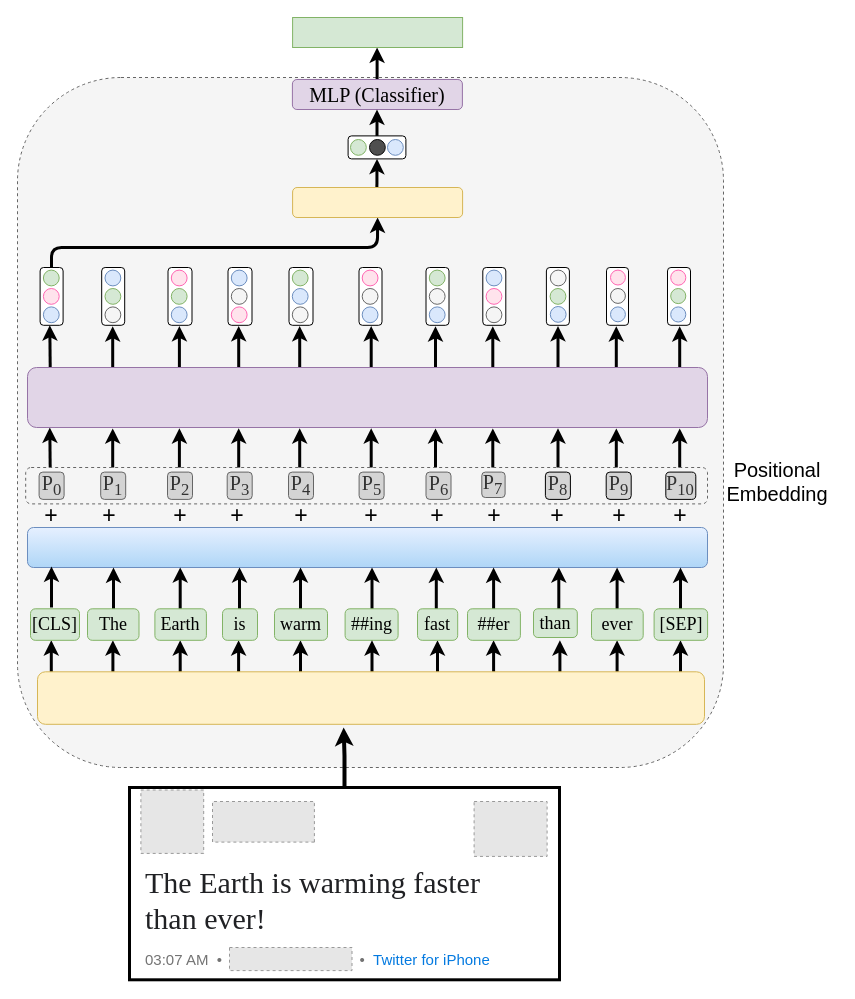
Some shapes in this 855 by 999 pixel diagram are drawn without their labels. Grey dashed boxes stand in for pictures. Here are the shapes that lost their labels. From the top down, the centre of each, then its label:
At [377,32]: "Stance: Support".
At [377,202]: "Dropout".
At [367,397]: "(Transformer Encoder Layers) X 12".
At [367,547]: "Embedding Table Lookup".
At [370,697]: "Bert Tokenizer (Word Piece)".
